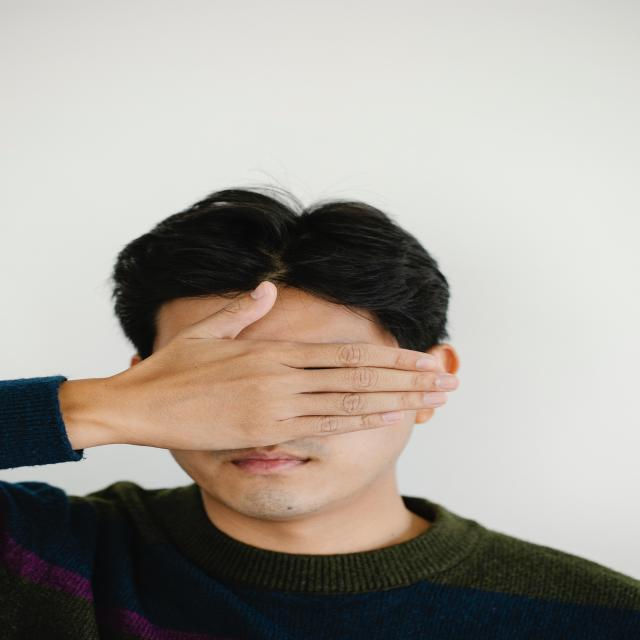7_mano_rostro: (97, 271, 434, 461)
